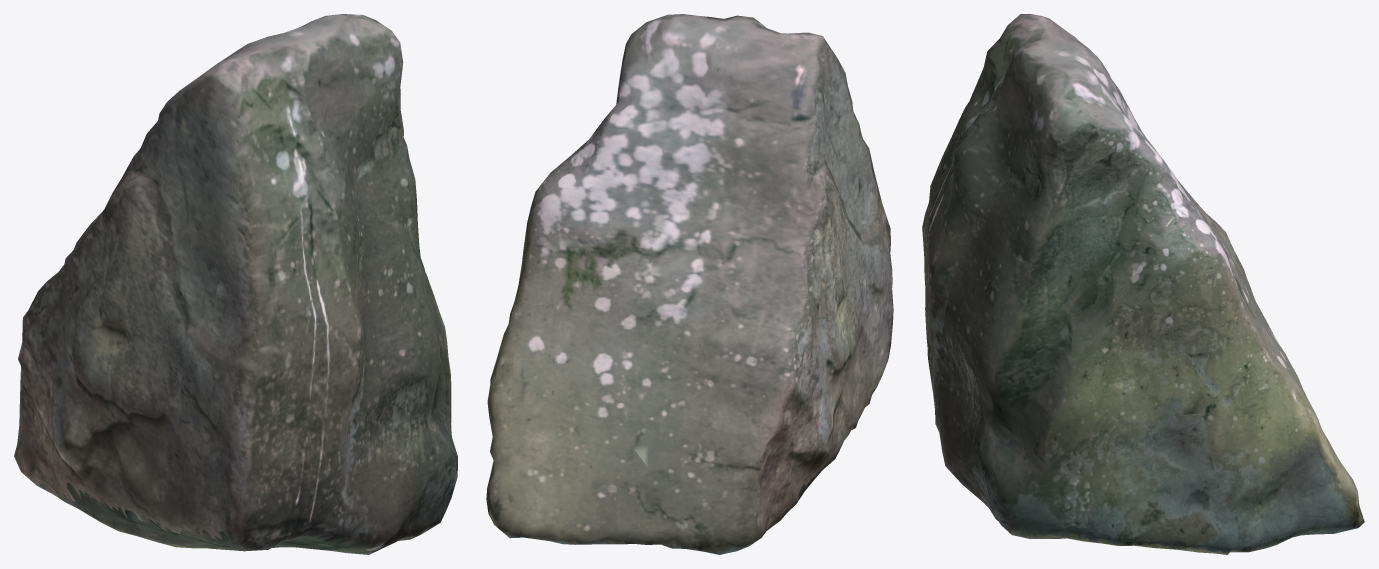
Rendered from [uhq]landmark3.fbx.
3 views of the same model, side by side, from view 1: azimuth 30°, elevation 25°; view 2: azimuth 150°, elevation 25°; view 3: azimuth 270°, elevation 25° (orthographic). The views are drawn at different scales.
Parts seen in each view (by area): view 1: landmark3_LOD0; view 2: landmark3_LOD0; view 3: landmark3_LOD0.
Part boxes in pixels (bbox=[...]): landmark3_LOD0: bbox=[14, 14, 457, 554]; landmark3_LOD0: bbox=[486, 14, 893, 554]; landmark3_LOD0: bbox=[922, 14, 1364, 554].
Size of what is drawn, in the model's own units: 1.44 by 2.1 by 1.86.
